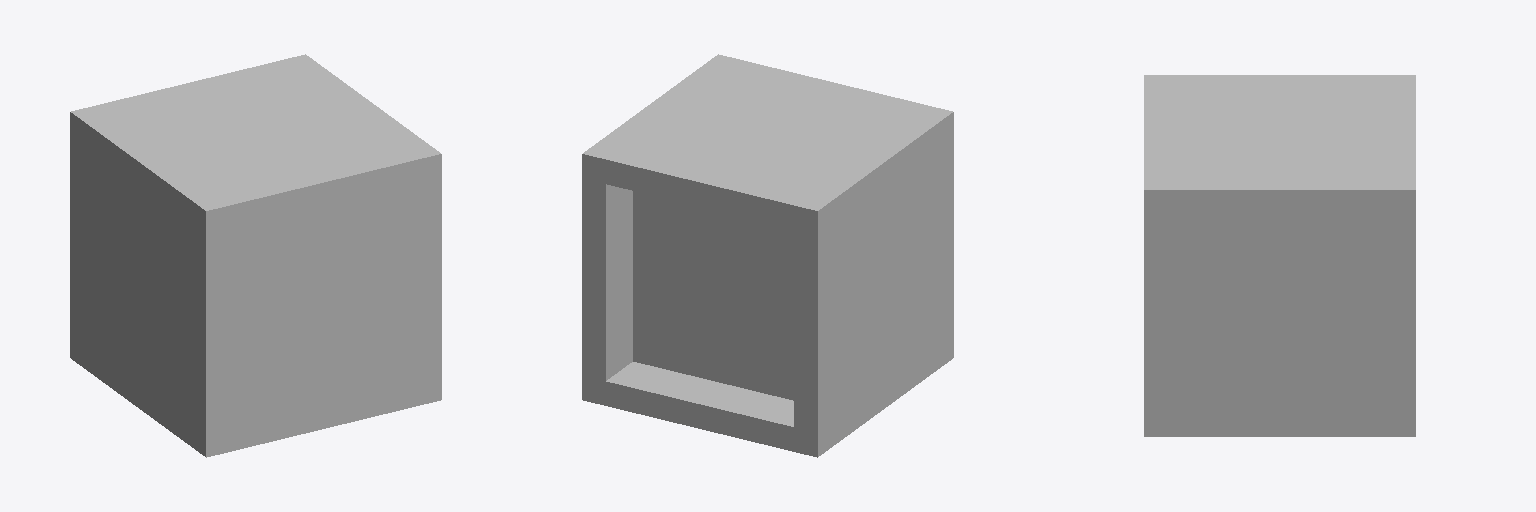
Rendered from puzzle.obj.
The picture shows the model from 3 angles: view 1: azimuth 30°, elevation 25°; view 2: azimuth 150°, elevation 25°; view 3: azimuth 270°, elevation 25°; orthographic projection.
Parts seen in each view (by area): view 1: Cube.001_Cube.000; view 2: Cube.001_Cube.000; view 3: Cube.001_Cube.000.
Part boxes in pixels (bbox=[...]): Cube.001_Cube.000: bbox=[70, 54, 441, 457]; Cube.001_Cube.000: bbox=[582, 54, 953, 457]; Cube.001_Cube.000: bbox=[1144, 75, 1415, 436].
Bounding box in the file's own units: 1 × 1 × 1.